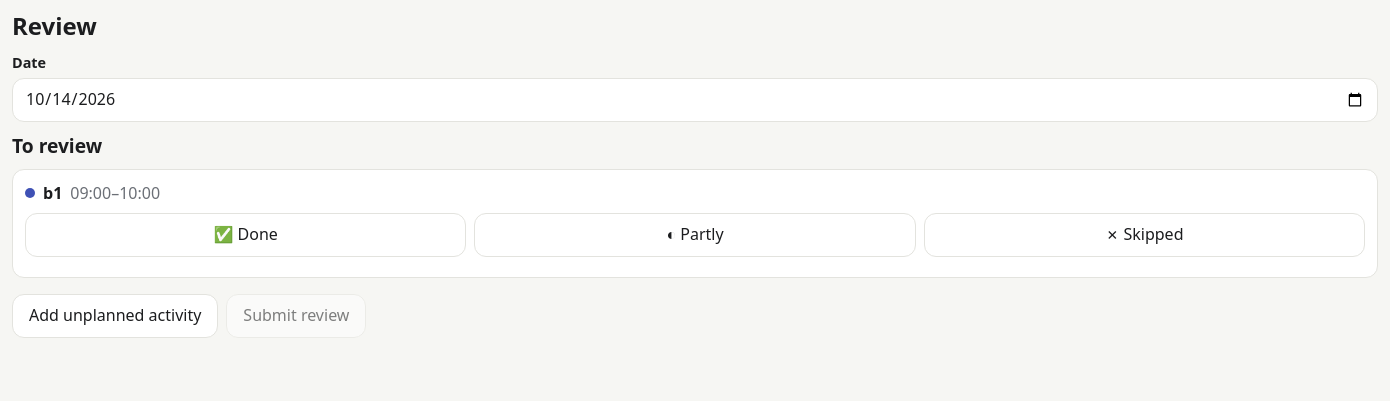
Test: ReviewPage › renders any entries.N.* server error on the row
This screenshot has width=1390, height=401.
What coordinates should you click on to do the following:
click the button "✅ Done"
I would click on:
 (246, 235)
Its box is [25,213,466,257].
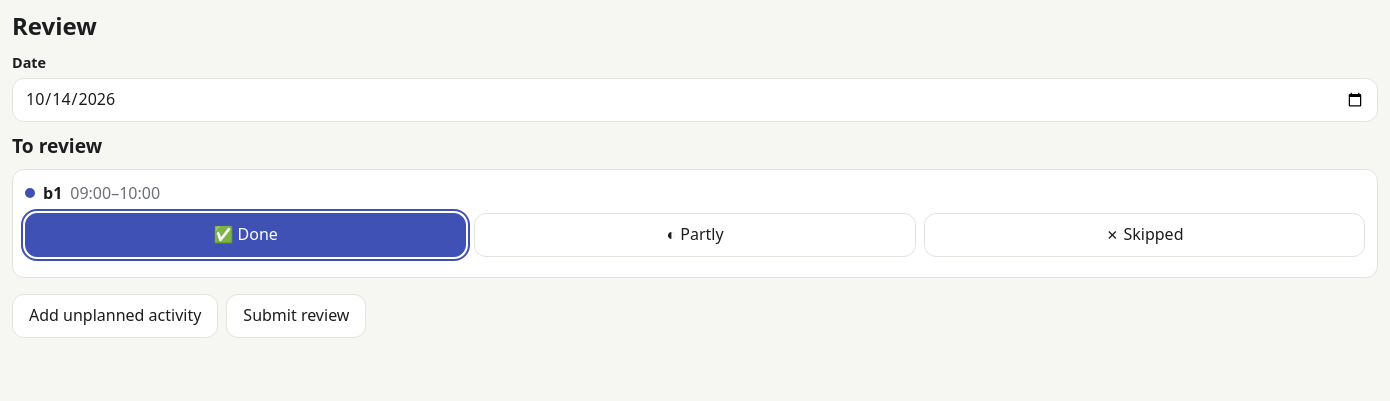
What coordinates should you click on to do the following:
click the button "Submit review"
I would click on:
 (296, 316)
Its box is [226,294,366,338].
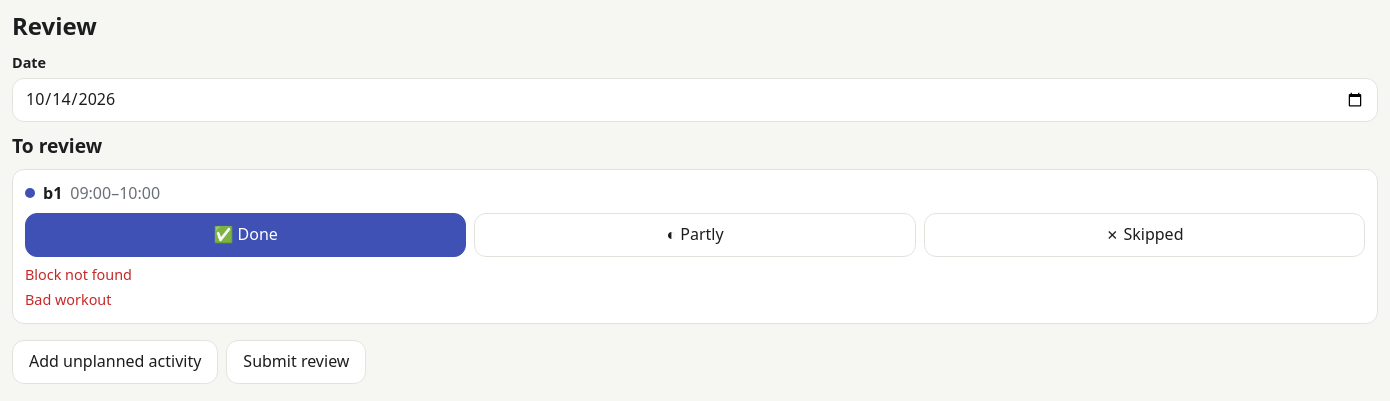
Now the text "Block not found" is shown, box [25,265,132,284]
Now the text "Bad workout" is shown, box [25,290,112,309]
